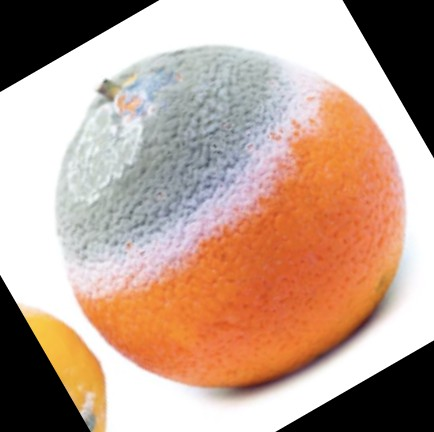rotten_orange: (55, 46, 406, 388)
